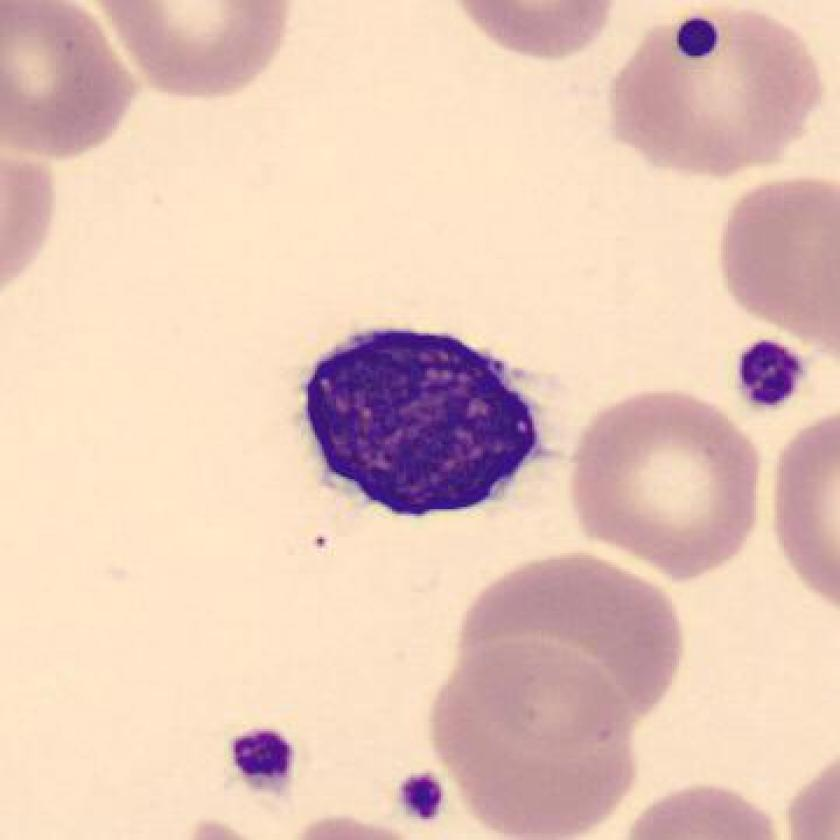lymphocyte: (272, 306, 561, 538)
platelets: (729, 333, 815, 420), (224, 722, 305, 794), (391, 762, 461, 827), (671, 10, 730, 71)
